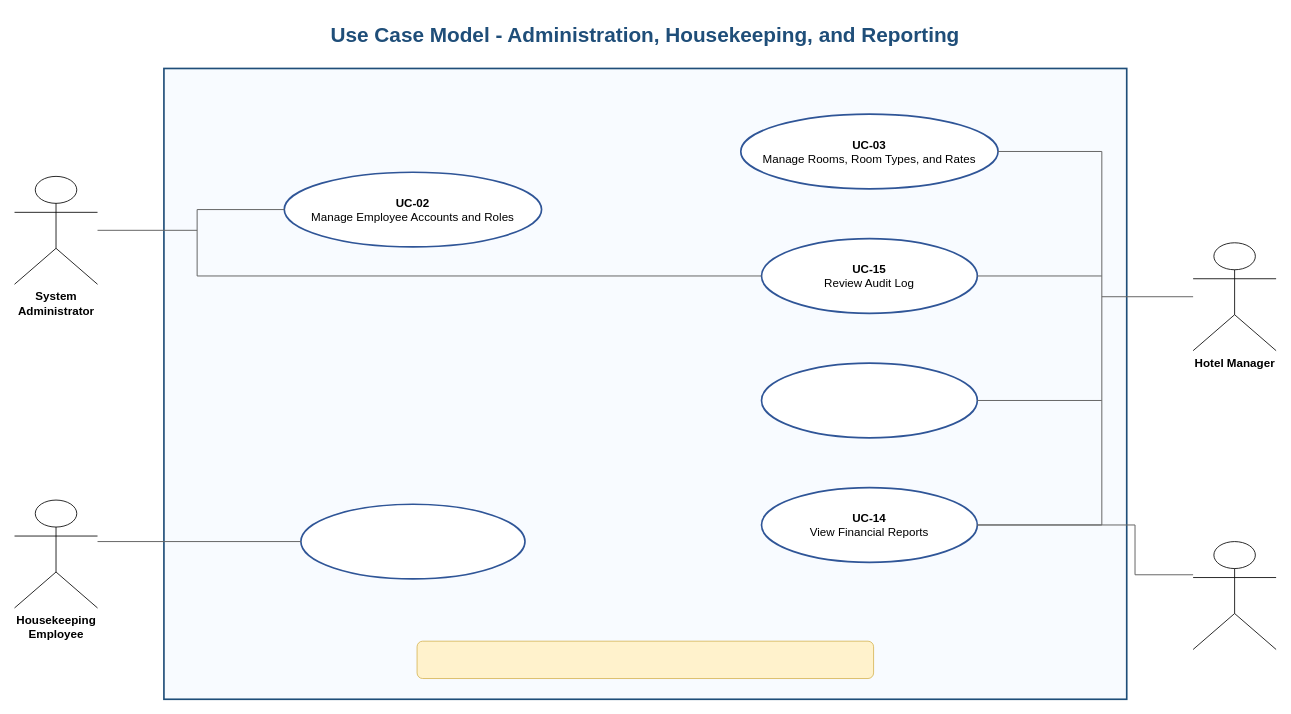
This 1291x714 diagram has some shape labels left out. The shapes that lost their labels are listed below. From the top down, each one's centre as x and y in pixels, then its label:
At point 869,400: "UC-13 View Operational Reports".
At point 412,541: "UC-12 Update Housekeeping Status".
At point 1234,595: "Accountant".
At point 645,659: "Common authentication, sign-out, and actor generalization are modeled on Page 3.".
